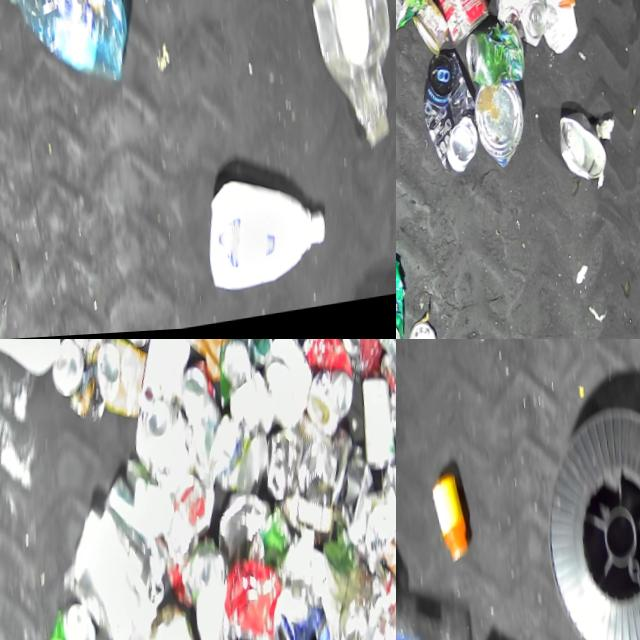can: (259, 412, 348, 550), (417, 50, 485, 180), (46, 339, 109, 433), (471, 82, 531, 175), (91, 339, 154, 427), (461, 22, 526, 94), (556, 113, 611, 192), (302, 372, 358, 445), (416, 0, 494, 51), (356, 379, 396, 478), (489, 0, 550, 56), (297, 339, 355, 397), (408, 0, 451, 60), (40, 601, 104, 640), (396, 252, 414, 339), (336, 339, 365, 390), (396, 0, 430, 42), (408, 321, 442, 339)
